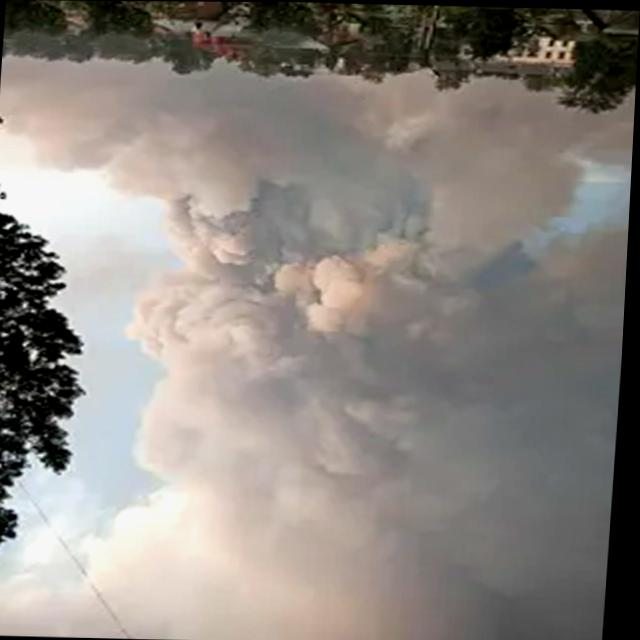no_helmet: (0, 59, 638, 640)
